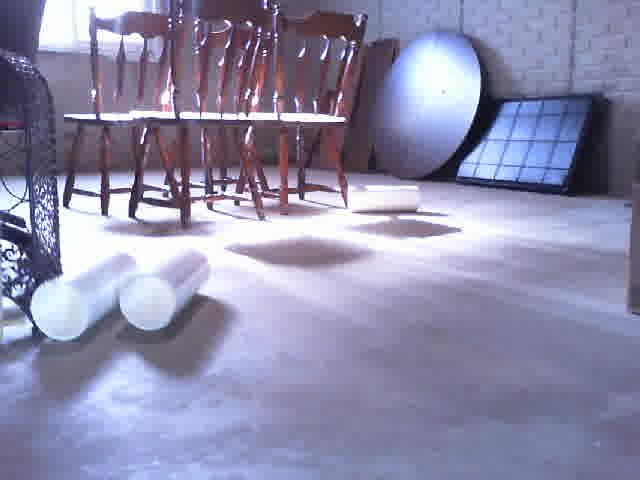coral: (29, 248, 138, 347), (116, 245, 214, 335), (345, 185, 419, 216)
